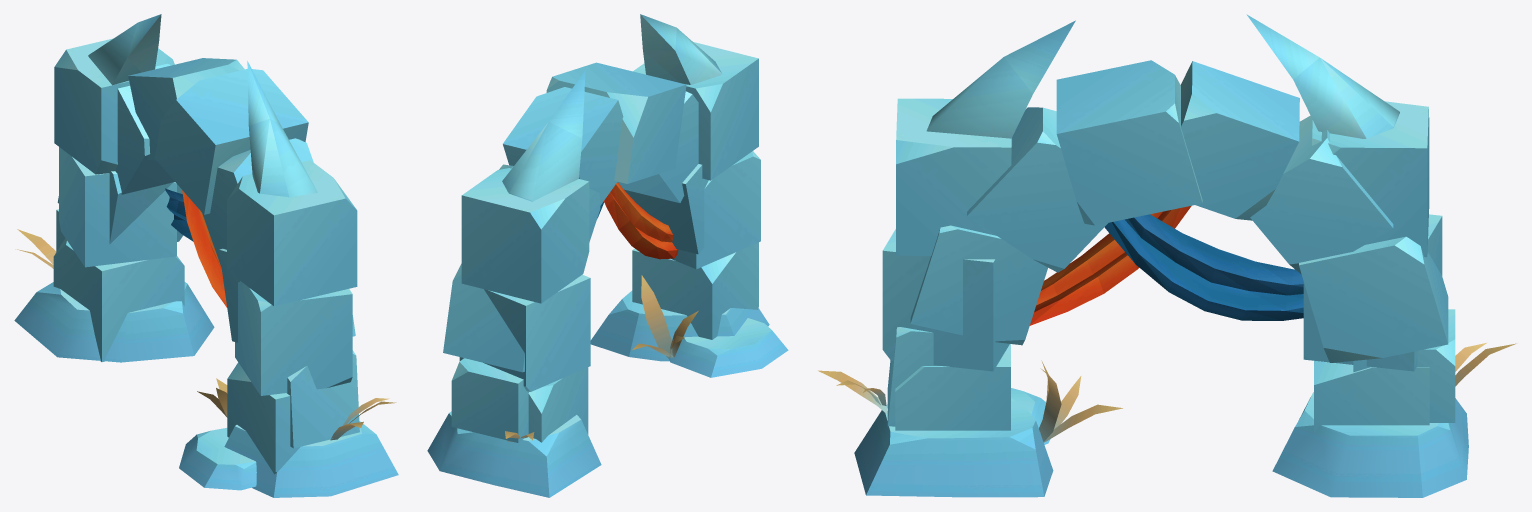
File: WallEntrance2B-003_40_08_8839.fbx
The picture shows the model from 3 angles, left to right: view 1: azimuth 30°, elevation 25°; view 2: azimuth 150°, elevation 25°; view 3: azimuth 270°, elevation 25°; orthographic projection. The views are drawn at different scales.
Parts seen in each view (by area): view 1: SnowArch1 (1), IceBlock3 (1) (×2), IceBlock2 (1) (×2), IceBlock3 (×2), Icicle3 (2), Icicle3 (3), Flag1.001 (2), Flag1.001 (1); view 2: SnowArch1 (1), IceBlock3 (1) (×2), IceBlock2 (1) (×2), IceBlock3 (×2), Icicle3 (3), Icicle3 (2), Flag1.001 (2); view 3: SnowArch1 (1), IceBlock3 (1) (×2), IceBlock3 (×2), Flag1.001 (1), IceBlock2 (1) (×2), Icicle3 (2), Icicle3 (3), Flag1.001 (2).
Part boxes in pixels (box(x1,y1,x2,y2)): SnowArch1 (1): box(14, 58, 398, 497); IceBlock3 (1) (×2): box(54, 38, 357, 306); IceBlock2 (1) (×2): box(59, 147, 352, 395); IceBlock3 (×2): box(53, 238, 300, 474); Icicle3 (2): box(247, 61, 317, 197); Icicle3 (3): box(88, 14, 161, 85); Flag1.001 (2): box(182, 190, 227, 307); Flag1.001 (1): box(165, 188, 193, 241); SnowArch1 (1): box(427, 62, 788, 497); IceBlock3 (1) (×2): box(461, 42, 758, 303); IceBlock2 (1) (×2): box(459, 151, 760, 391); IceBlock3 (×2): box(528, 242, 758, 442); Icicle3 (3): box(502, 70, 585, 201); Icicle3 (2): box(640, 14, 722, 84); Flag1.001 (2): box(604, 182, 678, 259); SnowArch1 (1): box(818, 60, 1516, 497); IceBlock3 (1) (×2): box(896, 98, 1429, 257); IceBlock3 (×2): box(895, 344, 1429, 432); Flag1.001 (1): box(1104, 214, 1303, 320); IceBlock2 (1) (×2): box(882, 214, 1442, 371); Icicle3 (2): box(926, 20, 1075, 138); Icicle3 (3): box(1246, 14, 1399, 138); Flag1.001 (2): box(1030, 205, 1191, 325).
Bounding box in the file's own units: 2.63 × 5.33 × 7.73.
